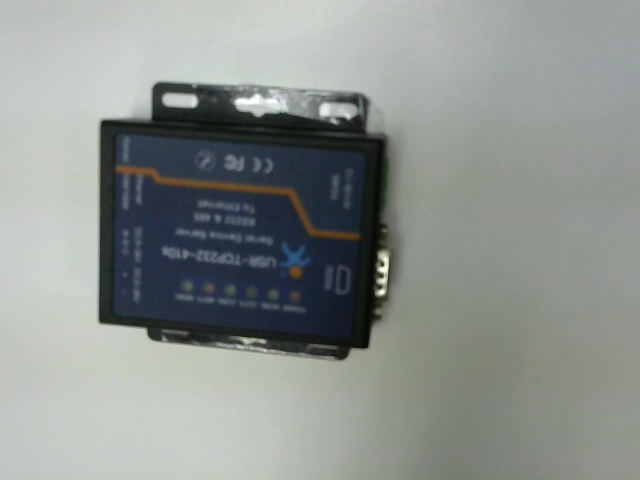modbus bridge: (85, 69, 461, 387)
